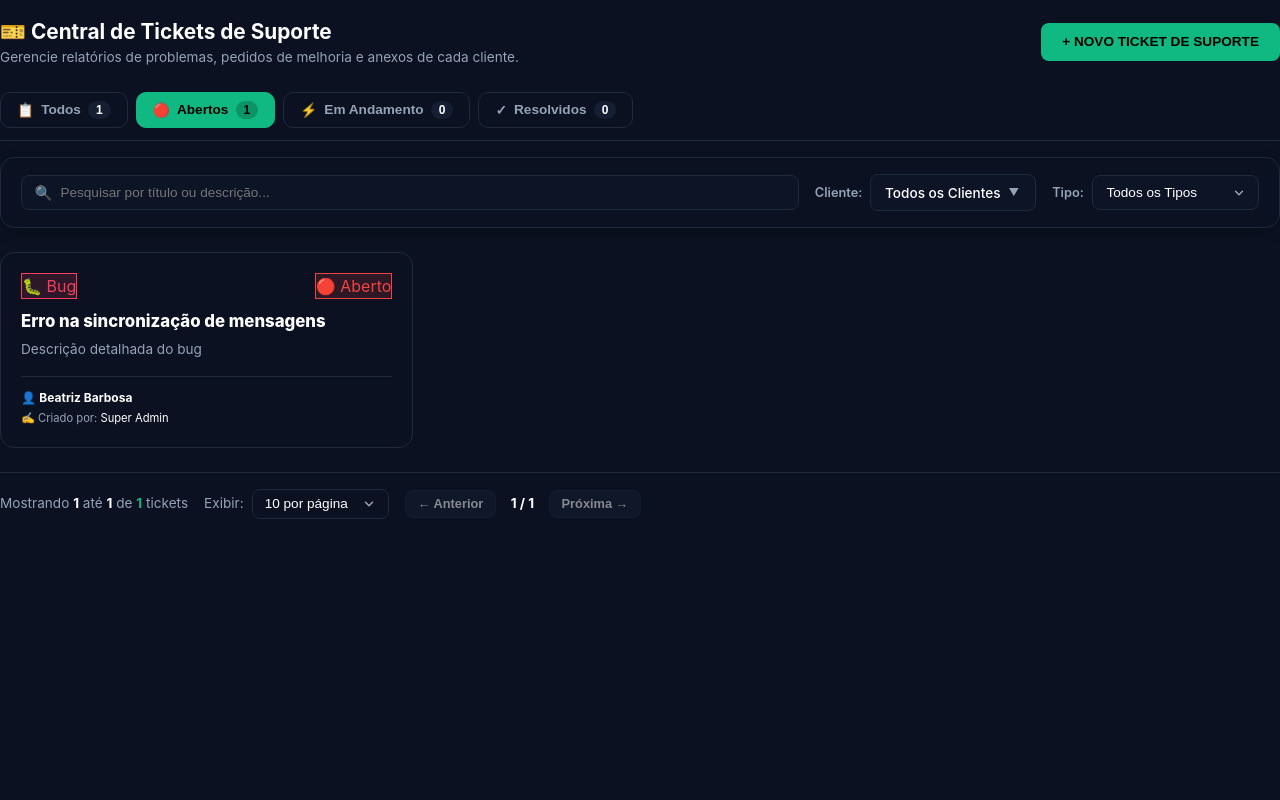
Test: SupportTicketsDashboard Component Tests › renders support tickets dashboard, loads tickets and opens creation modal
Expected: the heading "Erro na sincronização de mensagens" is shown, [21,311,326,331]
Expected: the text "Beatriz Barbosa" is shown, [39,390,132,405]
Click the button with test id "open-create-ticket-modal-btn": point(1161, 42) [1041,23,1279,61]
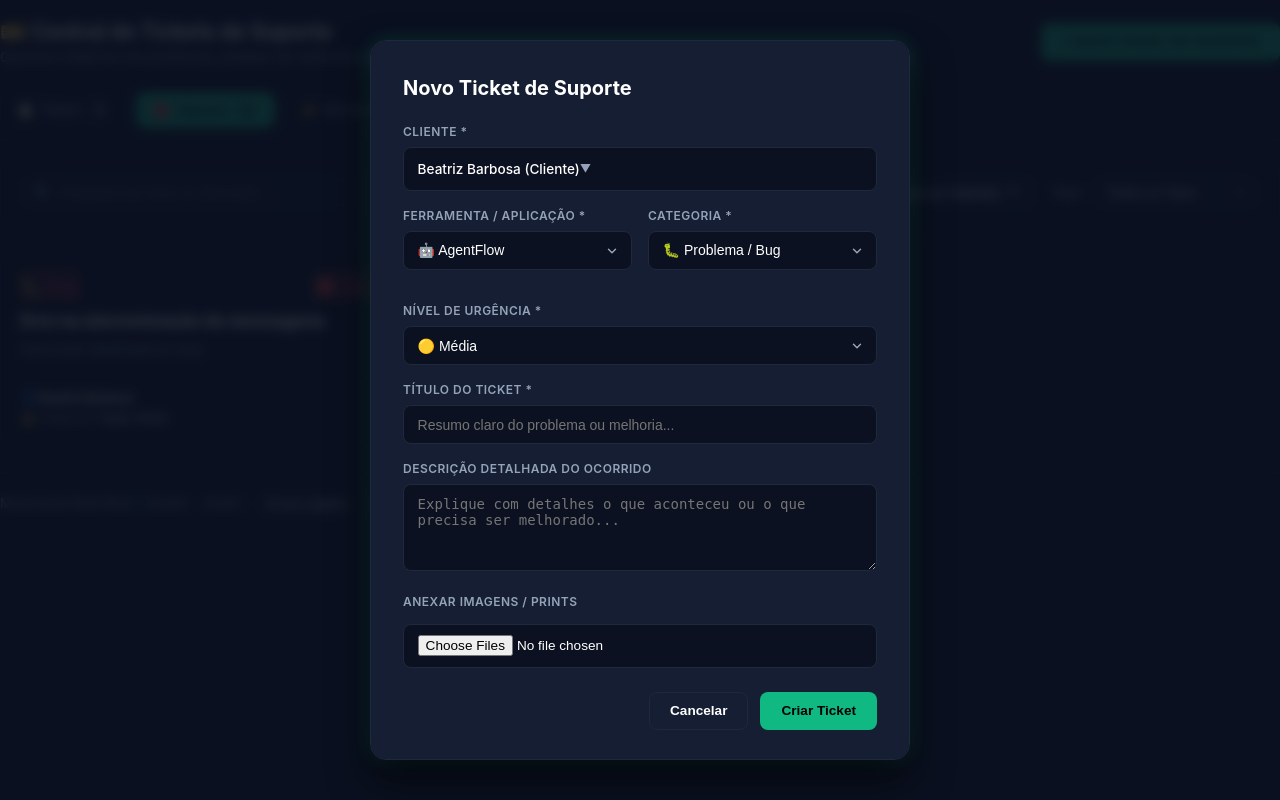
Now the element with test id "create-ticket-modal-backdrop" is shown
